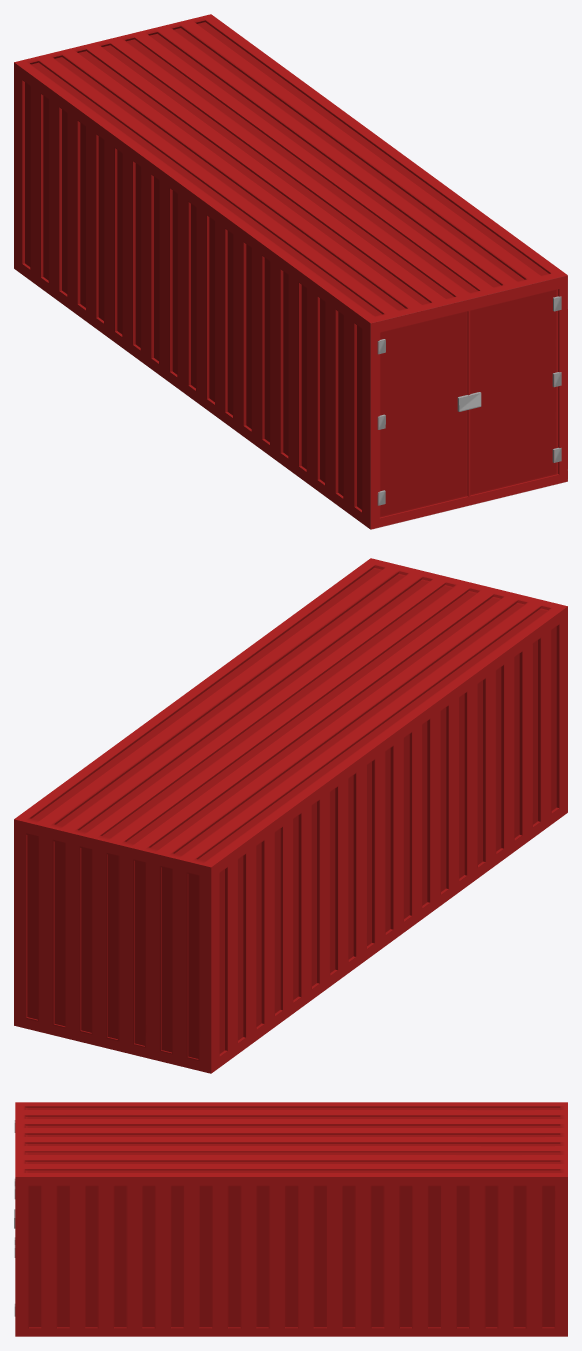
Rendered from crveni kontejner.fbx.
3 views of the same model, one above another, from view 1: azimuth 30°, elevation 25°; view 2: azimuth 150°, elevation 25°; view 3: azimuth 270°, elevation 25° (orthographic). The views are drawn at different scales.
Parts seen in each view (by area): view 1: Cube; view 2: Cube; view 3: Cube.
Boxes of the visible parts, x1=… form: Cube: x1=14, y1=14, x2=567, y2=529; Cube: x1=14, y1=558, x2=567, y2=1073; Cube: x1=14, y1=1102, x2=567, y2=1336.
Bounding box in the file's own units: 229 × 229 × 720.
1 material, 1 textured.
